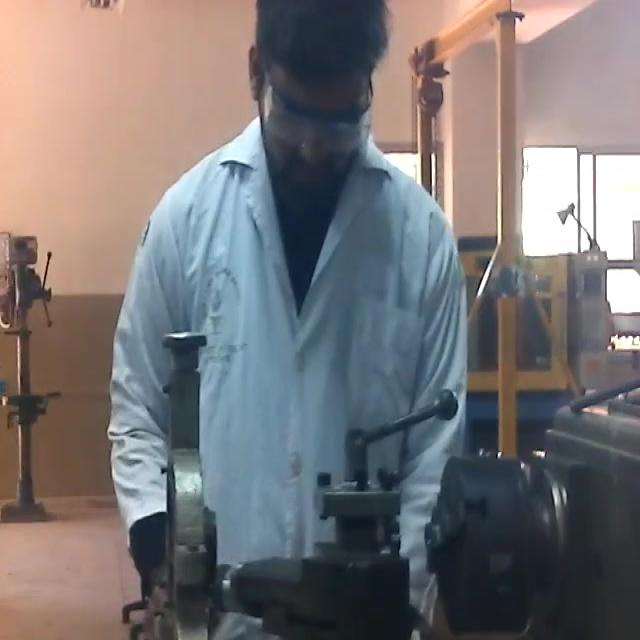googles: (248, 48, 386, 160)
labcoat: (105, 110, 472, 640)
